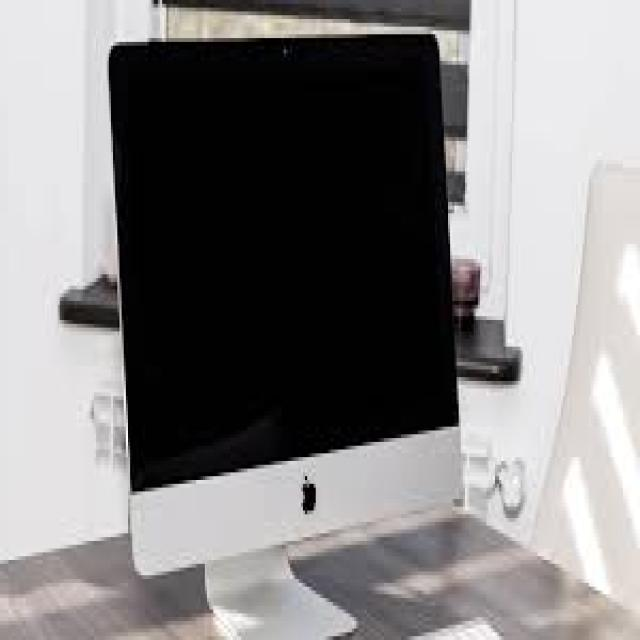monitor: (104, 11, 470, 640)
